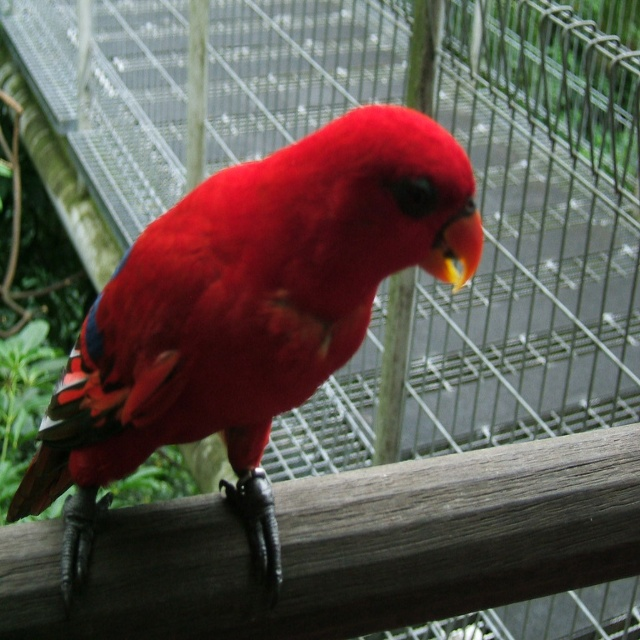Parrot: (8, 95, 487, 607)
